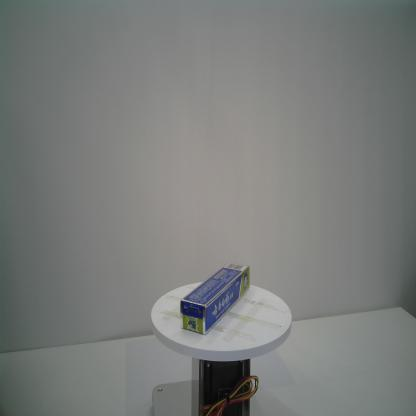Personal Hygiene: (180, 261, 250, 335)
